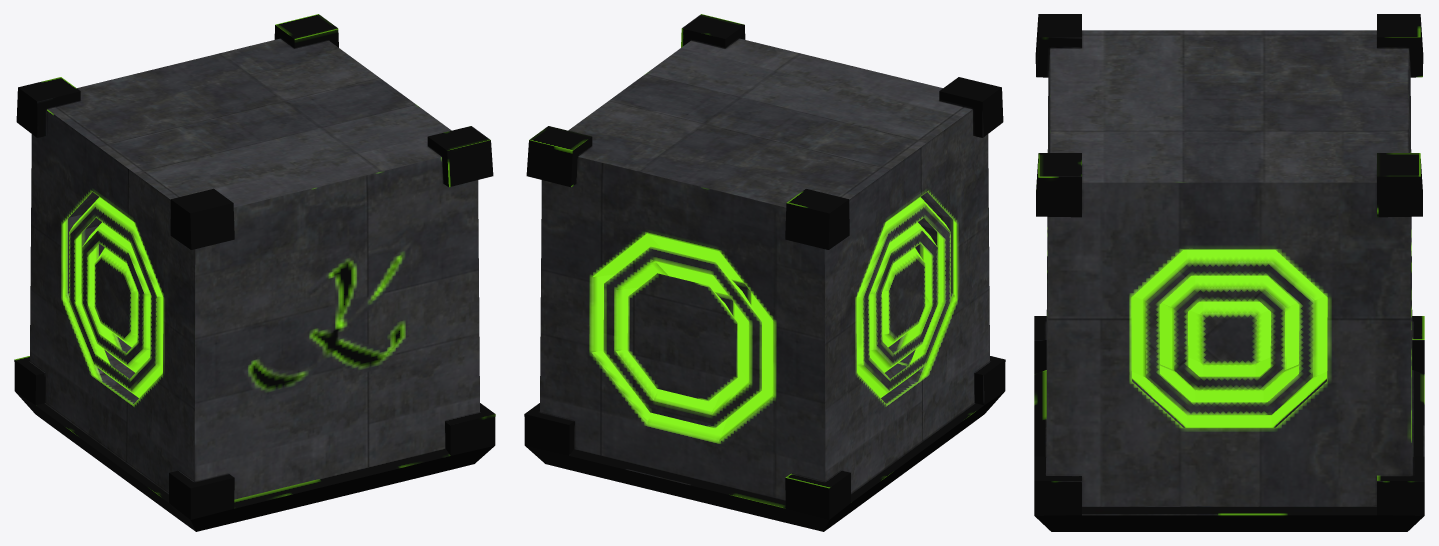
File: Block#4.fbx
3 renders of one model, left to right at view 1: azimuth 30°, elevation 25°; view 2: azimuth 150°, elevation 25°; view 3: azimuth 270°, elevation 25°, orthographic. The views are drawn at different scales.
Parts seen in each view (by area): view 1: Block#3; view 2: Block#3; view 3: Block#3.
Boxes of the visible parts, left/top/right/bottom form: Block#3: left=14, top=14, right=495, bottom=531; Block#3: left=524, top=14, right=1005, bottom=531; Block#3: left=1034, top=14, right=1424, bottom=531.
Size of the model in its own units: 919 by 938 by 919.
Materials: 2 (1 with a texture image).
